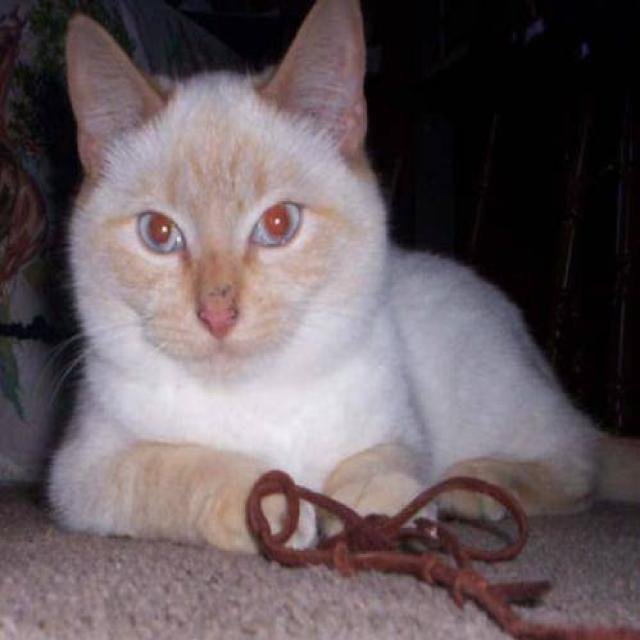cat: (39, 0, 638, 557)
